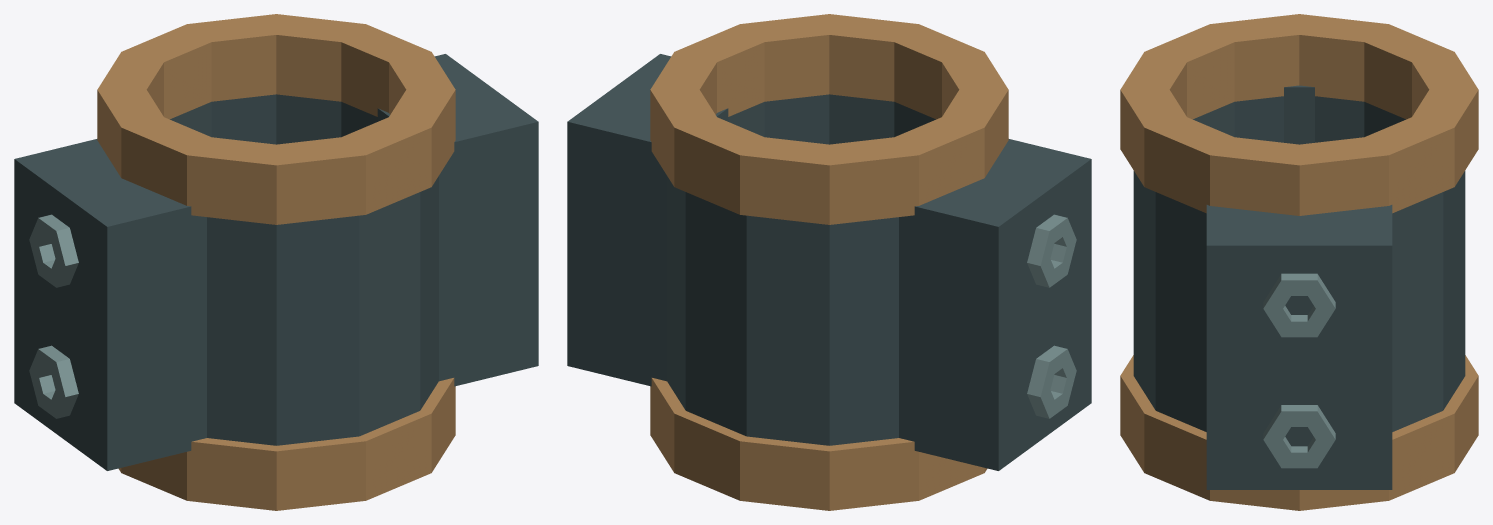
Rendered from w6c-bridge-post-sleeve.glb.
The picture shows the model from 3 angles, left to right: view 1: azimuth 30°, elevation 25°; view 2: azimuth 150°, elevation 25°; view 3: azimuth 270°, elevation 25°; orthographic projection.
Visible parts, largest first — view 1: Post sleeve; view 2: Post sleeve; view 3: Post sleeve.
Boxes of the visible parts, <box> form: Post sleeve: <box>14,14,538,510</box>; Post sleeve: <box>567,14,1091,510</box>; Post sleeve: <box>1120,14,1478,510</box>.
Size of the model in its own units: 0.322 by 0.232 by 0.218.
